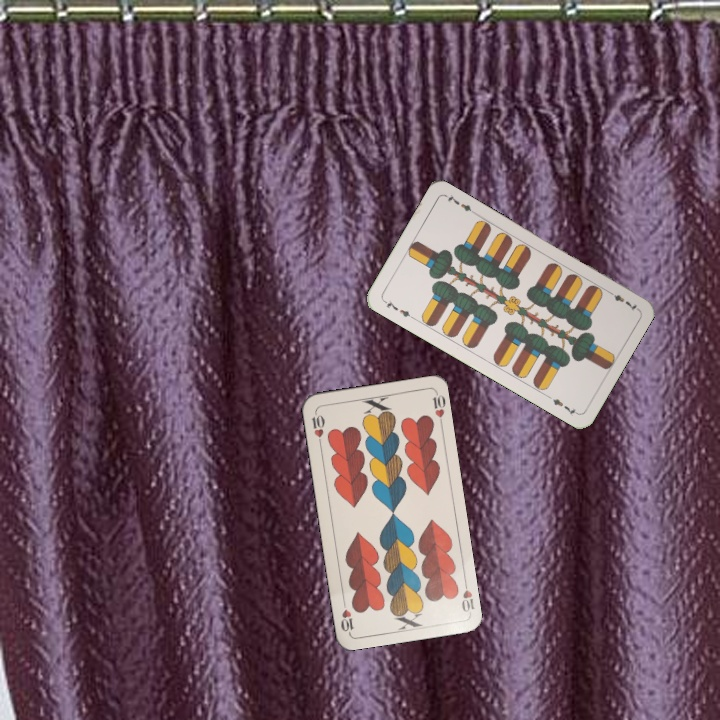E7: (603, 287, 641, 314), (379, 296, 417, 322)
H10: (308, 407, 327, 448), (457, 576, 476, 615)
